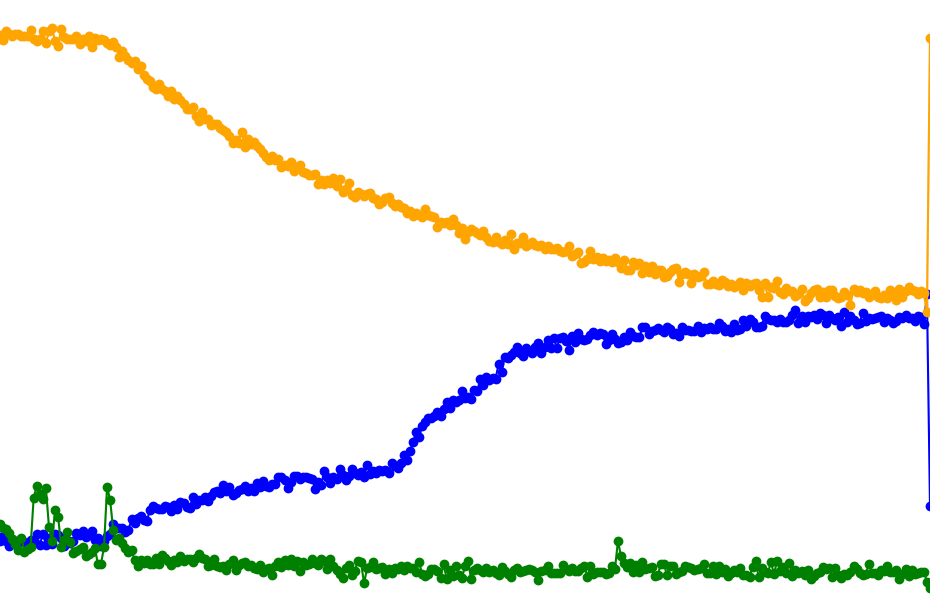Condensation (CO2): (73, 0, 220, 616)
Normal: (220, 0, 930, 616), (73, 0, 660, 616), (0, 0, 220, 616)
